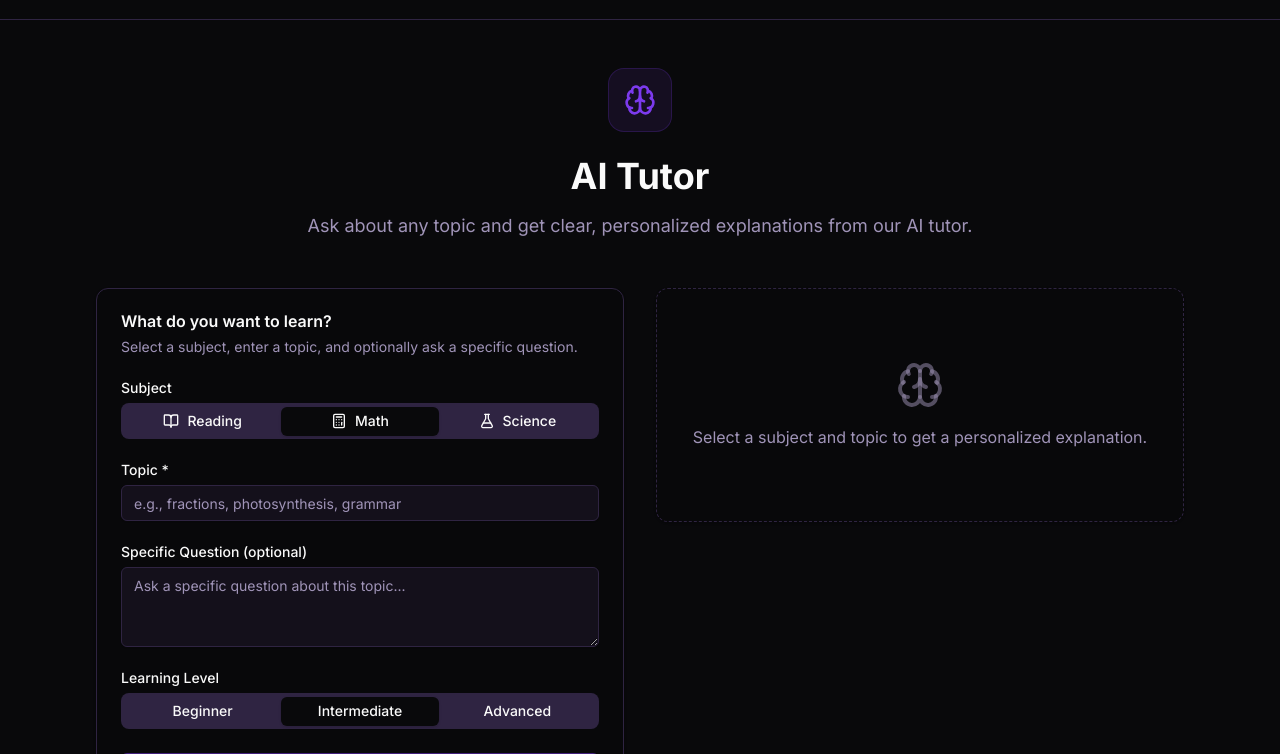
Learn Page › API Interaction › displays error message on API failure
Type "fractions" into the field labelled "Topic *" at (360, 503), box [121,485,599,521]
(page scrolled)
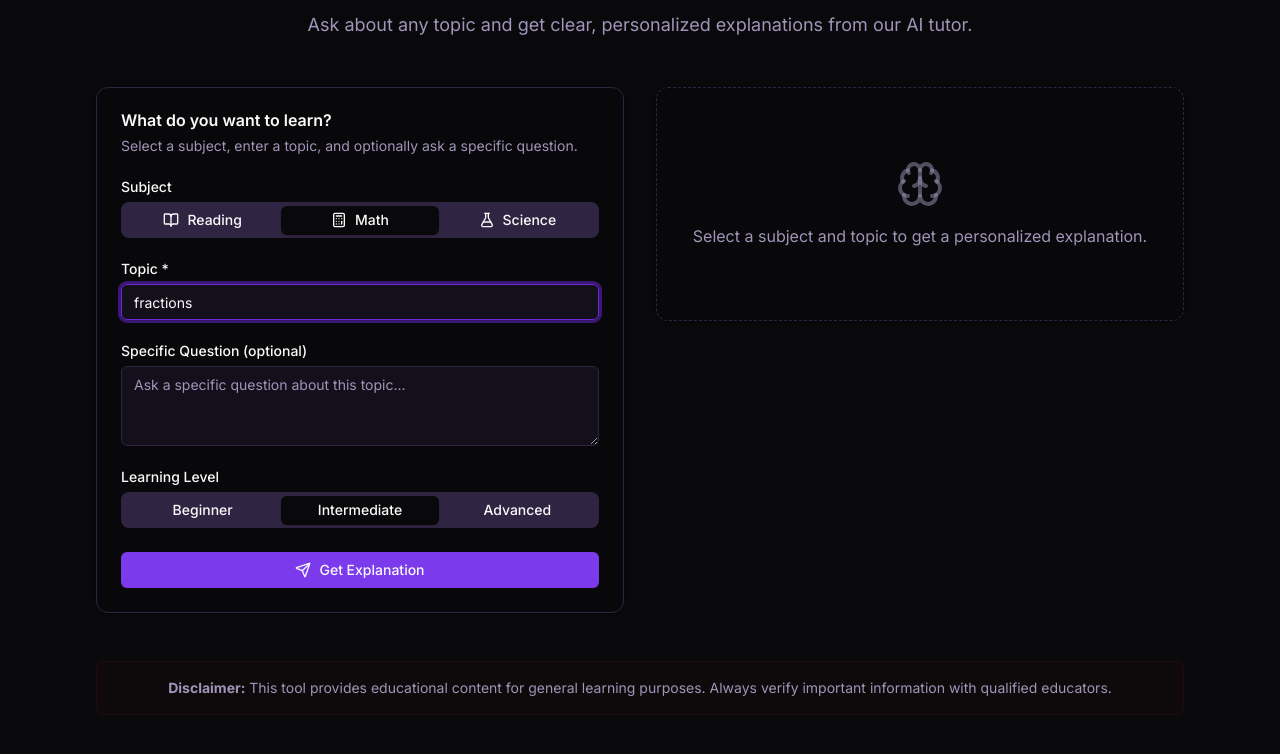
Click the button "Get Explanation" at (360, 570), box [121,552,599,588]
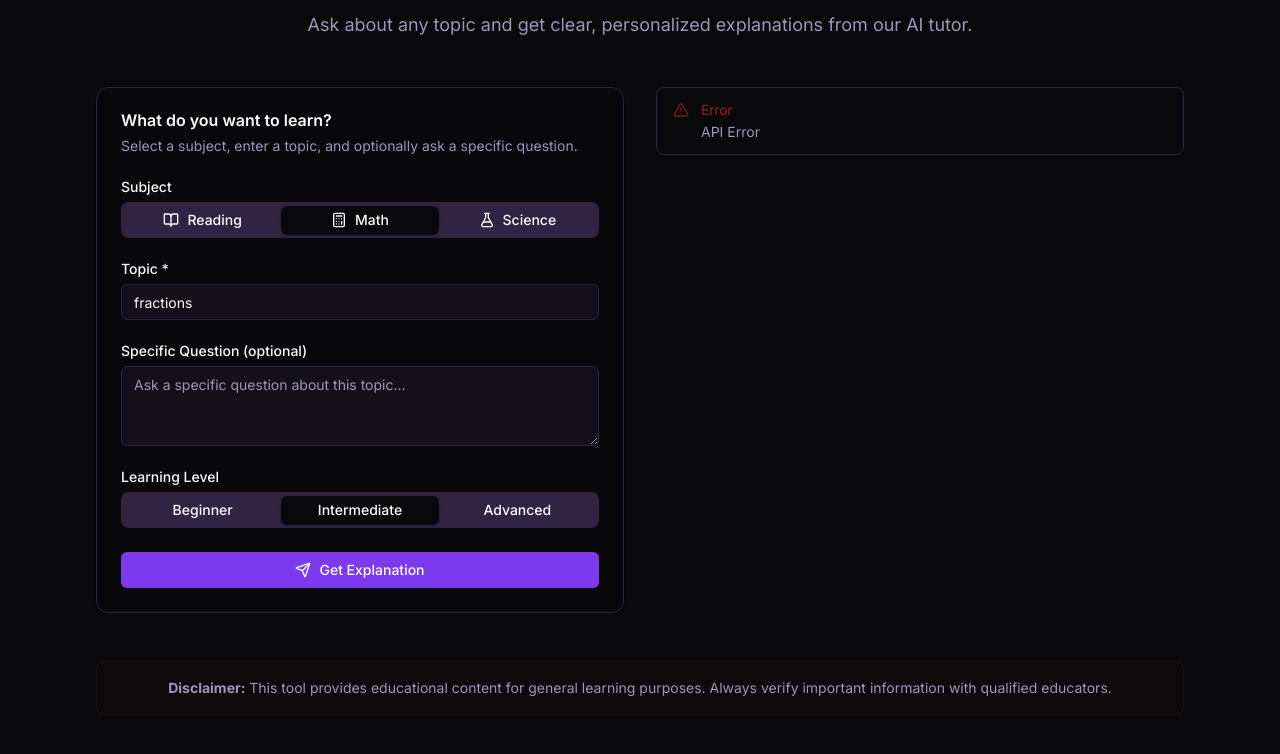
Expected: the text "API Error" is shown, [701,123,760,140]
